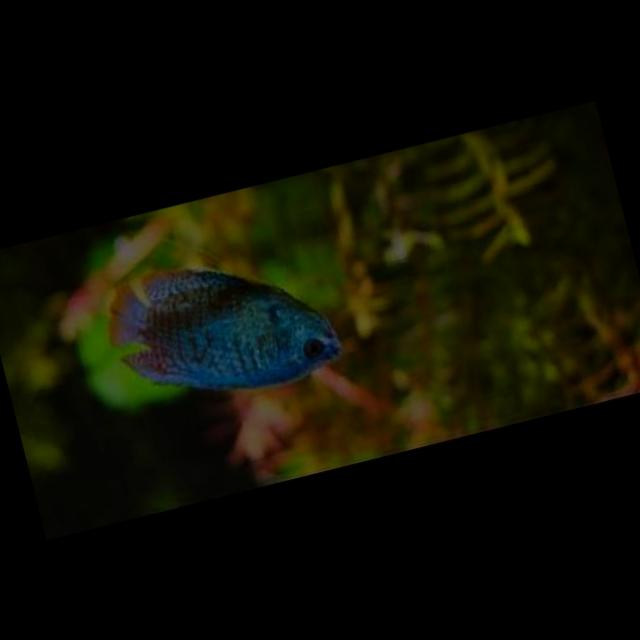Gourami: (94, 233, 350, 427)
